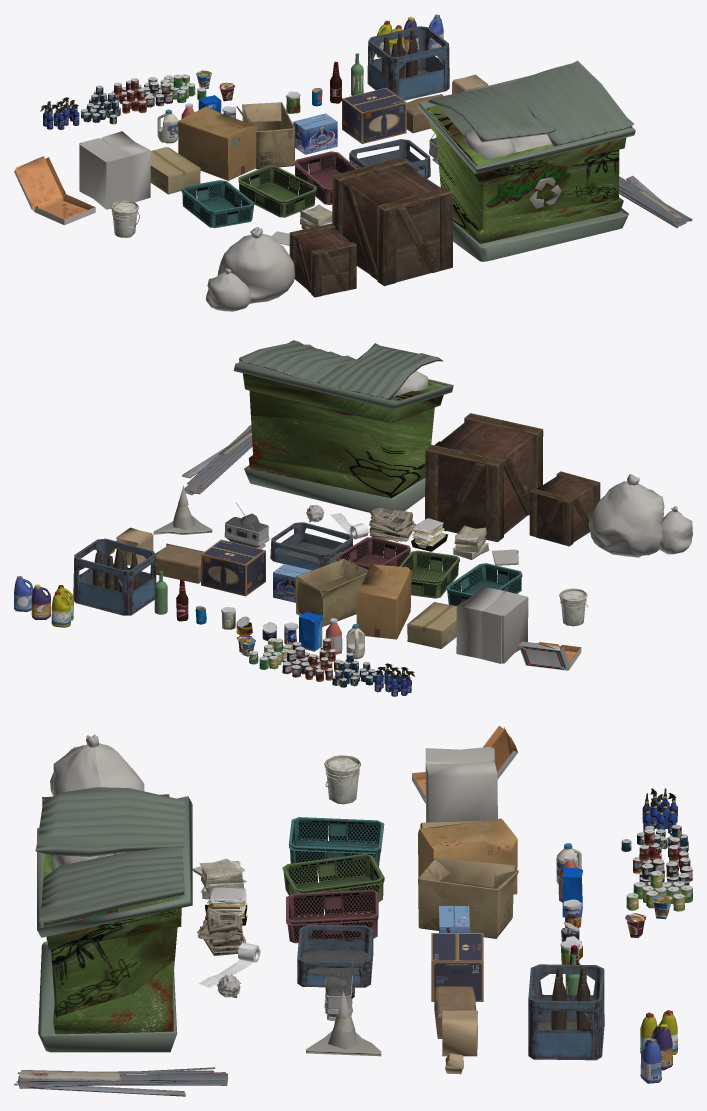
Rendered from trashpile.glb.
3 renders of one model, top to bottom at view 1: azimuth 30°, elevation 25°; view 2: azimuth 150°, elevation 25°; view 3: azimuth 270°, elevation 25°, orthographic. The views are drawn at different scales.
Size of the model in its own units: 6.25 by 1.67 by 5.63.
46 materials, 33 textured.
